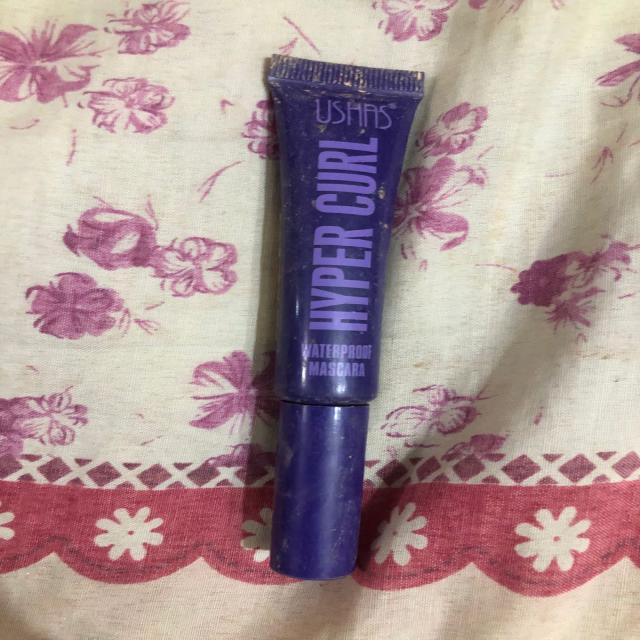Tint: (233, 41, 441, 600)
